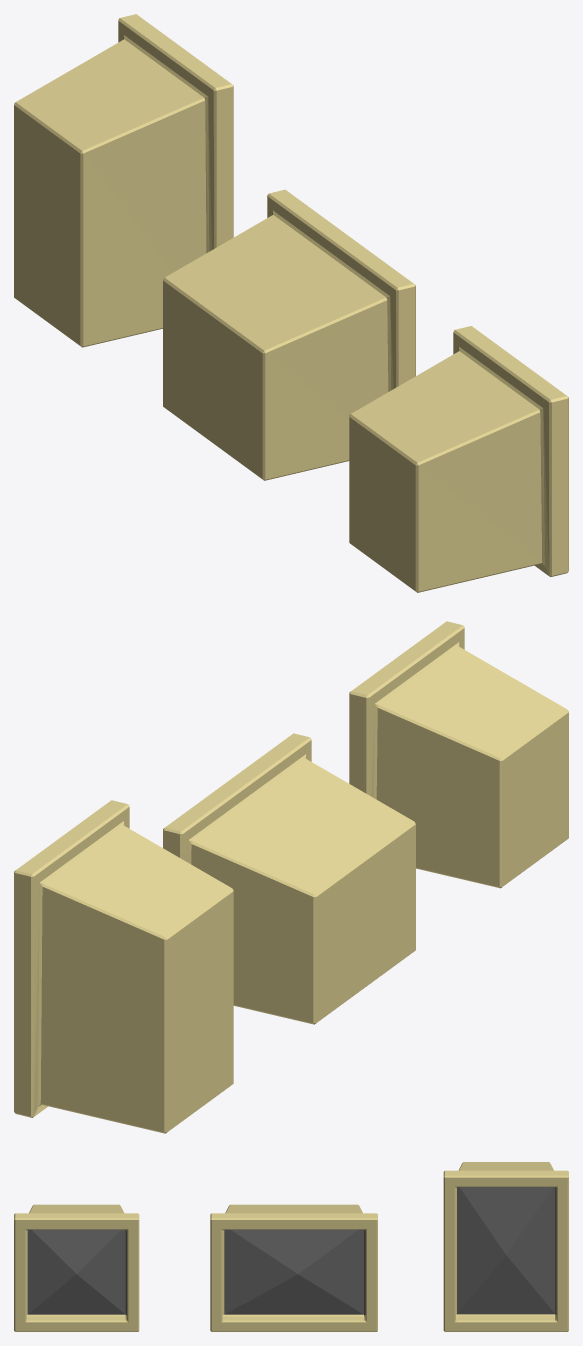
The model's file is Monitors.fbx.
3 renders of one model, top to bottom at view 1: azimuth 30°, elevation 25°; view 2: azimuth 150°, elevation 25°; view 3: azimuth 270°, elevation 25°, orthographic. The views are drawn at different scales.
Parts seen in each view (by area): view 1: Cube.002, Cube, Cube.001; view 2: Cube.002, Cube, Cube.001; view 3: Cube, Cube.002, Cube.001.
Part boxes in pixels (x1,y1,x2,y2): Cube.002: (14, 14, 233, 347); Cube: (163, 189, 415, 480); Cube.001: (349, 326, 568, 592); Cube.002: (14, 800, 233, 1133); Cube: (163, 733, 415, 1024); Cube.001: (349, 621, 568, 888); Cube: (210, 1204, 377, 1331); Cube.002: (443, 1162, 568, 1331); Cube.001: (14, 1204, 139, 1331).
Size of the model in its own units: 234 by 392 by 1263.
